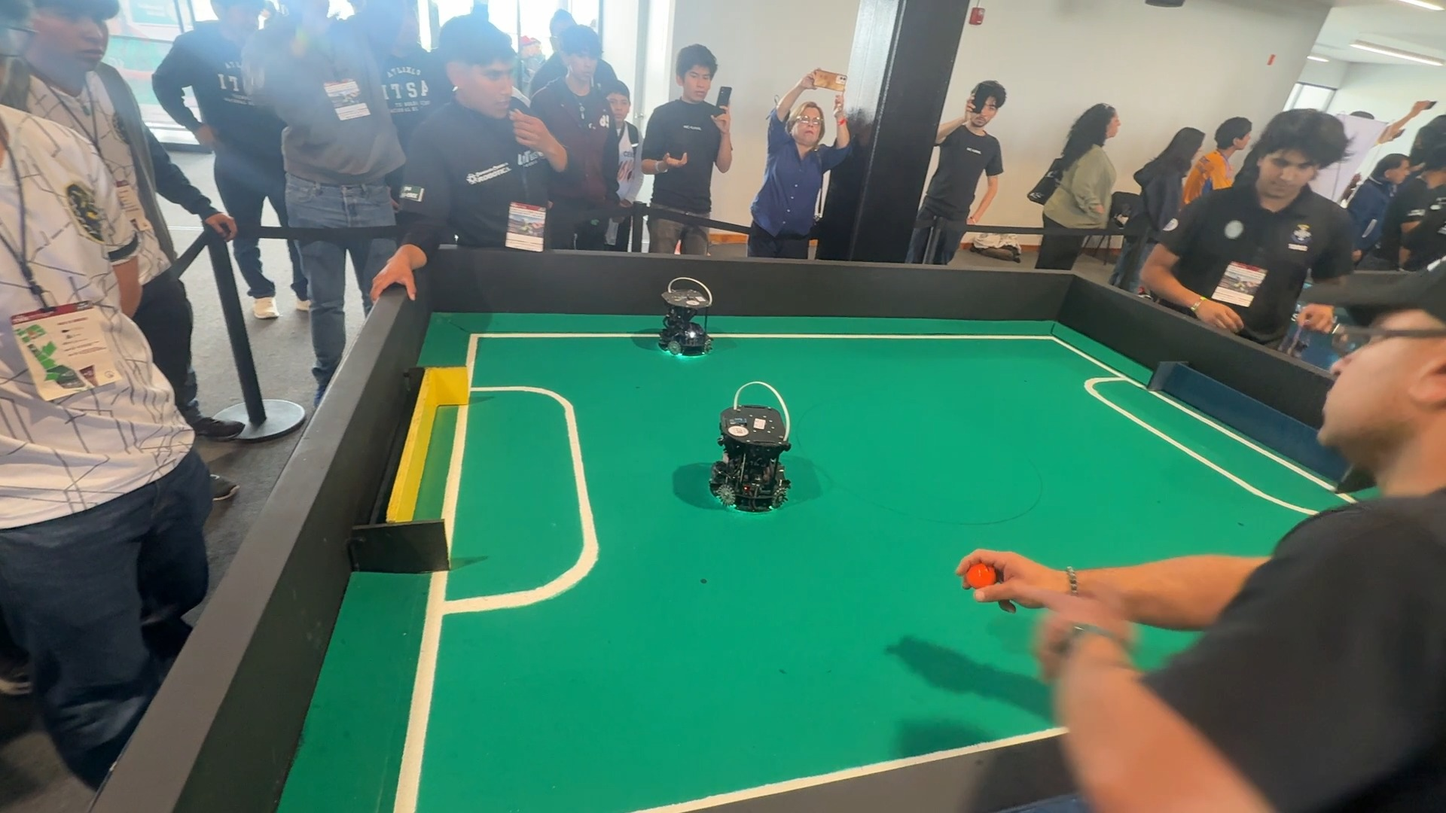Robot: (679, 382, 836, 532), (637, 275, 727, 370)
